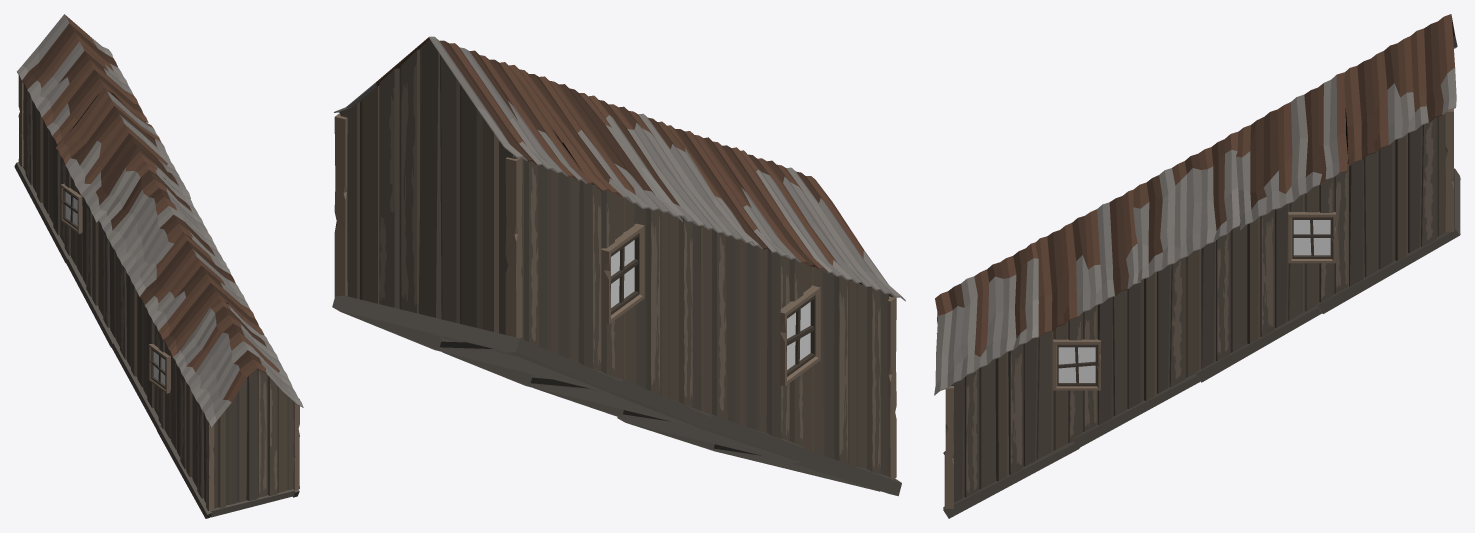
The model's file is SM_Bld_Quarry_05.glb.
The picture shows the model from 3 angles, left to right: view 1: azimuth 30°, elevation 25°; view 2: azimuth 150°, elevation 25°; view 3: azimuth 270°, elevation 25°; orthographic projection. The views are drawn at different scales.
Parts seen in each view (by area): view 1: SM_Bld_Quarry_05, SM_Bld_Quarry_05_Glass; view 2: SM_Bld_Quarry_05, SM_Bld_Quarry_05_Glass; view 3: SM_Bld_Quarry_05, SM_Bld_Quarry_05_Glass.
Part boxes in pixels (x1,y1,x2,y2): SM_Bld_Quarry_05: (14, 14, 303, 518); SM_Bld_Quarry_05_Glass: (65, 192, 165, 384); SM_Bld_Quarry_05: (332, 36, 905, 496); SM_Bld_Quarry_05_Glass: (611, 240, 810, 369); SM_Bld_Quarry_05: (934, 14, 1460, 518); SM_Bld_Quarry_05_Glass: (1058, 220, 1330, 382).
Size of the model in its own units: 3.14 by 11.09 by 11.13.
2 materials, 1 textured.
